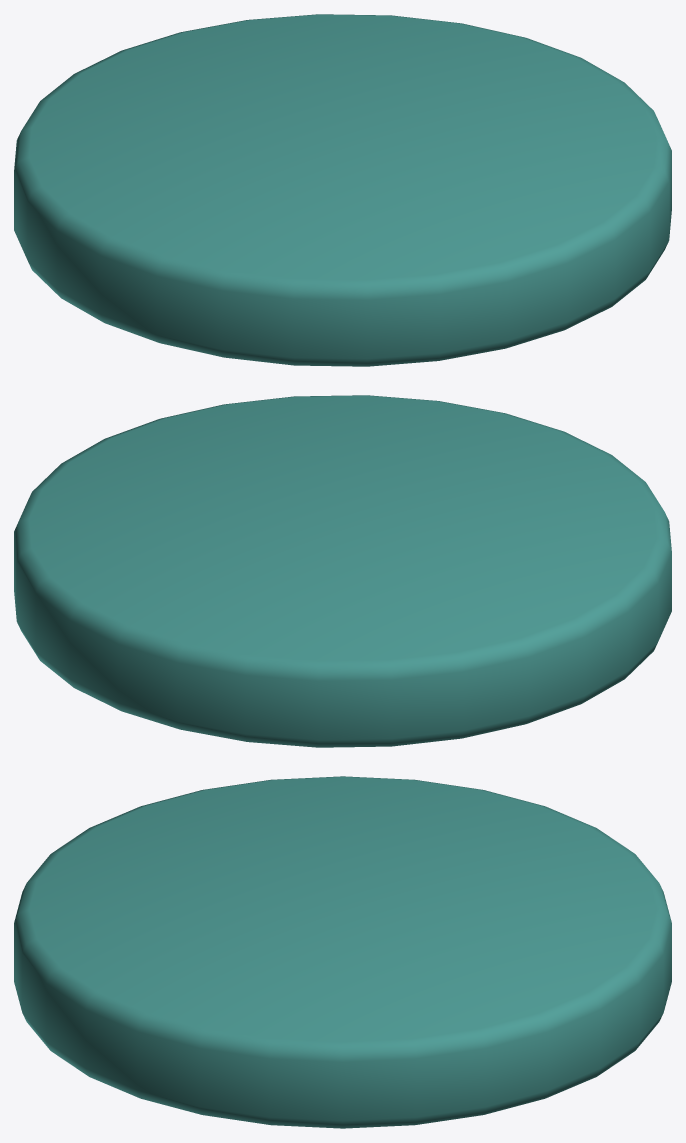
Rendered from weight_disc.glb.
3 views of the same model, one above another, from view 1: azimuth 30°, elevation 25°; view 2: azimuth 150°, elevation 25°; view 3: azimuth 270°, elevation 25° (orthographic).
Parts seen in each view (by area): view 1: Disc_Body; view 2: Disc_Body; view 3: Disc_Body.
Part boxes in pixels (box(x1,y1,x2,y2)): Disc_Body: box(14, 14, 671, 366); Disc_Body: box(14, 395, 671, 747); Disc_Body: box(14, 776, 671, 1128).
Size of the model in its own units: 0.52 by 0.075 by 0.52.
